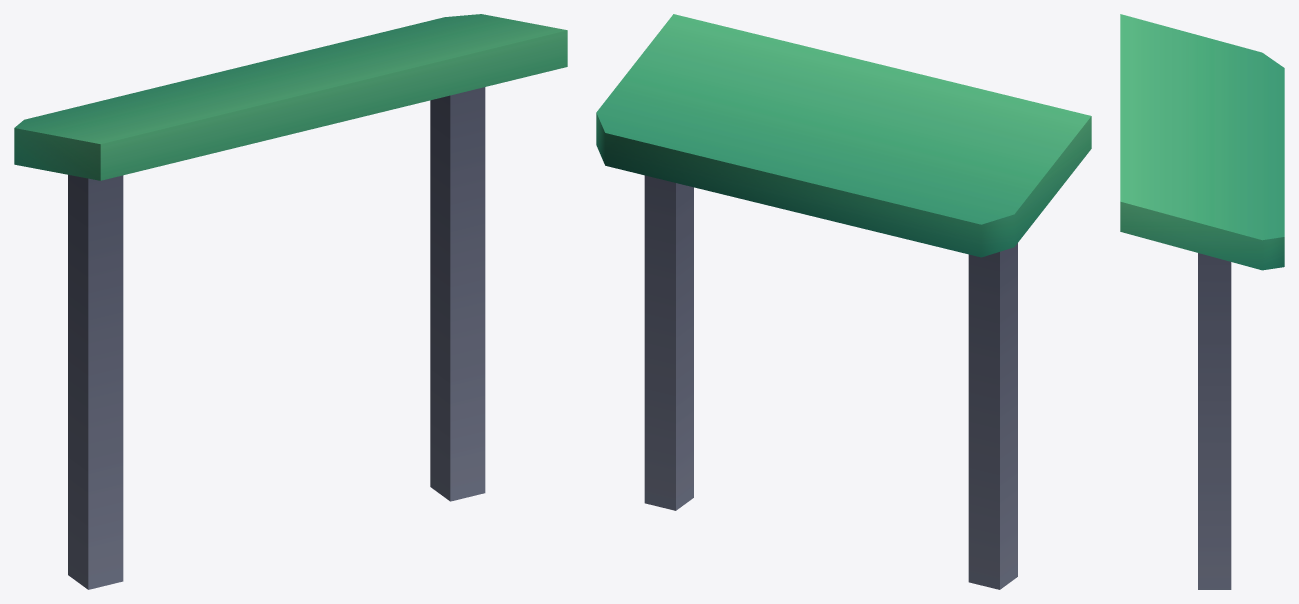
Rendered from kenney-city-commercial-detail-awning.glb.
3 renders of one model, left to right at view 1: azimuth 30°, elevation 25°; view 2: azimuth 150°, elevation 25°; view 3: azimuth 270°, elevation 25°, orthographic. The views are drawn at different scales.
Parts seen in each view (by area): view 1: detail-awning; view 2: detail-awning; view 3: detail-awning.
Boxes of the visible parts, box(x1,y1,x2,y2) form: detail-awning: box(14, 14, 567, 589); detail-awning: box(596, 14, 1091, 589); detail-awning: box(1120, 14, 1284, 589).
Size of the model in its own units: 0.4 by 0.4 by 0.1479.
Materials: 1 (1 with a texture image).
